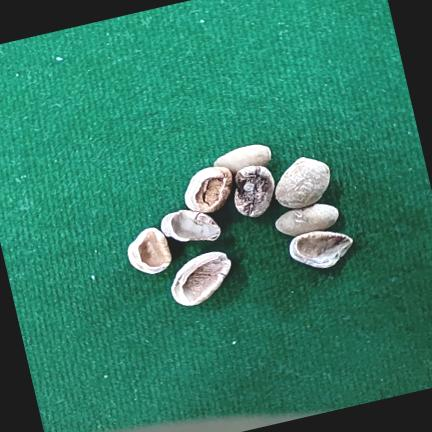shell: (171, 252, 231, 306), (276, 157, 330, 208), (290, 231, 353, 268), (185, 167, 233, 213), (276, 203, 339, 237), (235, 165, 275, 217), (128, 227, 172, 274), (161, 210, 221, 241), (214, 144, 271, 174)
